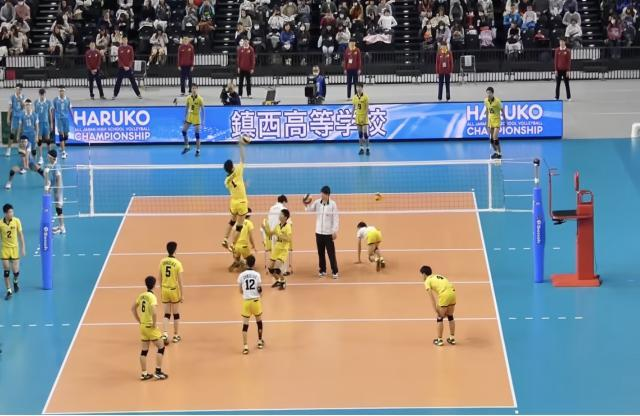spike: (220, 132, 256, 258)
